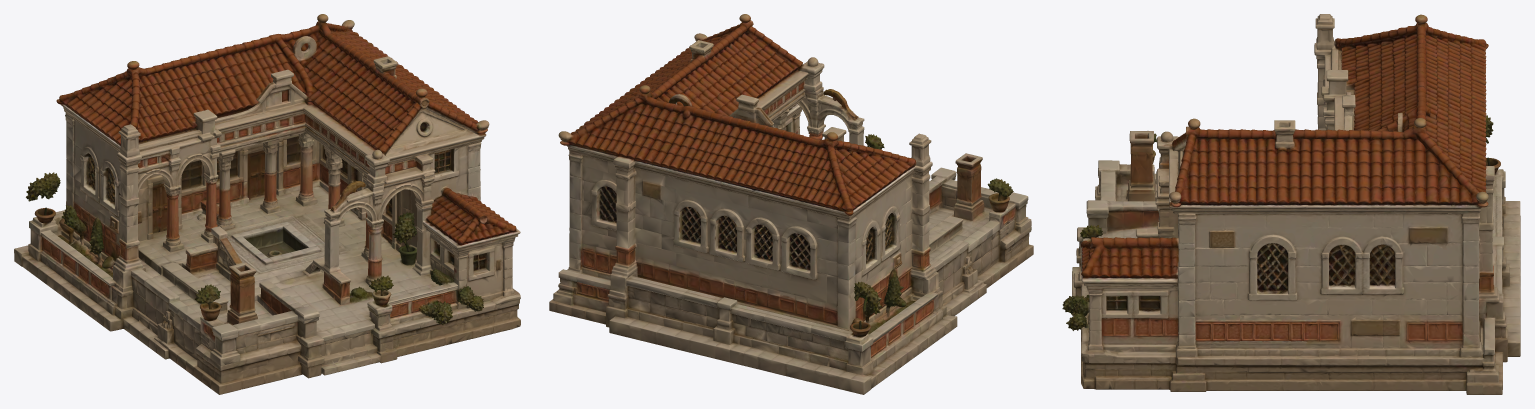
Rendered from roman.glb.
3 renders of one model, left to right at view 1: azimuth 30°, elevation 25°; view 2: azimuth 150°, elevation 25°; view 3: azimuth 270°, elevation 25°, orthographic. The views are drawn at different scales.
Parts seen in each view (by area): view 1: tripo_node_a7a8b9fb-b4cd-4634-9a27-ce2724fe7d3a; view 2: tripo_node_a7a8b9fb-b4cd-4634-9a27-ce2724fe7d3a; view 3: tripo_node_a7a8b9fb-b4cd-4634-9a27-ce2724fe7d3a.
Part boxes in pixels (x1,y1,x2,y2): tripo_node_a7a8b9fb-b4cd-4634-9a27-ce2724fe7d3a: [14, 14, 520, 394]; tripo_node_a7a8b9fb-b4cd-4634-9a27-ce2724fe7d3a: [549, 14, 1033, 394]; tripo_node_a7a8b9fb-b4cd-4634-9a27-ce2724fe7d3a: [1062, 14, 1520, 394].
Bounding box in the file's own units: 0.9147 × 0.5771 × 0.9806.
Materials: 1 (1 with a texture image).
